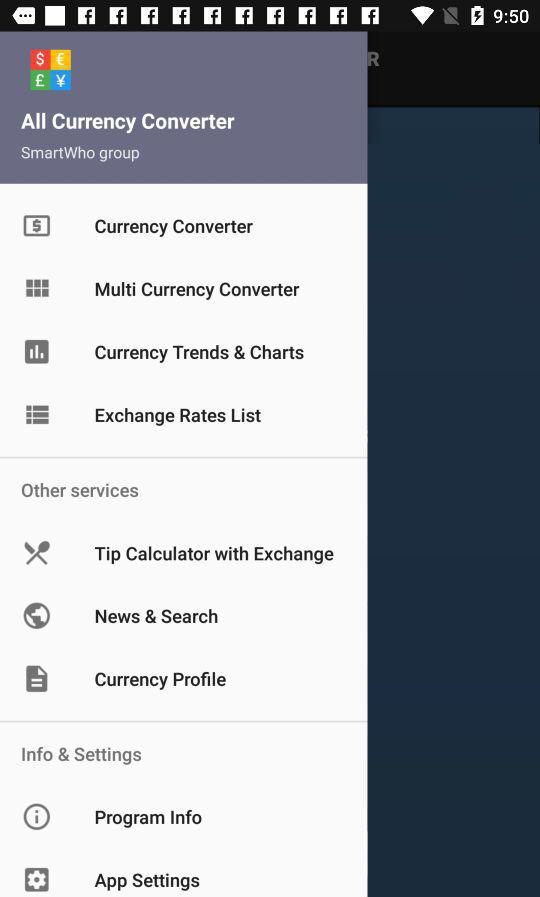Drawer: (1, 33, 367, 897)
Icon: (24, 803, 52, 831), (26, 665, 50, 693), (25, 867, 51, 892), (25, 340, 51, 365), (24, 215, 51, 238), (26, 279, 51, 299), (26, 405, 50, 425)
Image: (30, 50, 73, 92), (24, 602, 52, 630), (25, 541, 52, 566)
Text: (21, 112, 236, 135), (95, 546, 335, 565), (95, 344, 305, 365), (94, 281, 301, 302), (94, 218, 254, 239), (95, 407, 263, 427), (95, 671, 228, 691), (22, 746, 143, 766), (21, 146, 141, 164), (96, 809, 203, 829), (95, 872, 201, 892), (95, 609, 219, 626), (22, 483, 140, 499)
UpperTaskBar: (1, 1, 540, 33)
